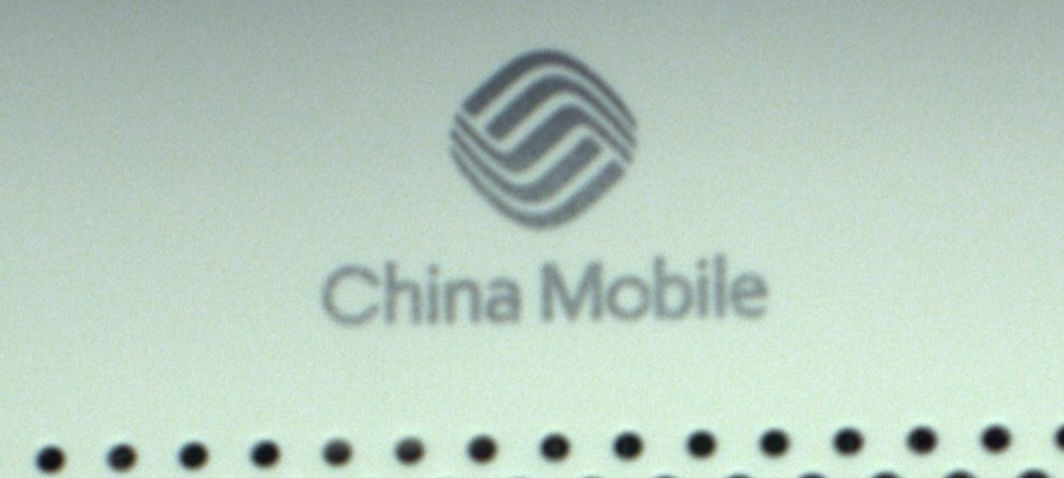AA_ChinaMobile: (320, 48, 770, 333)
